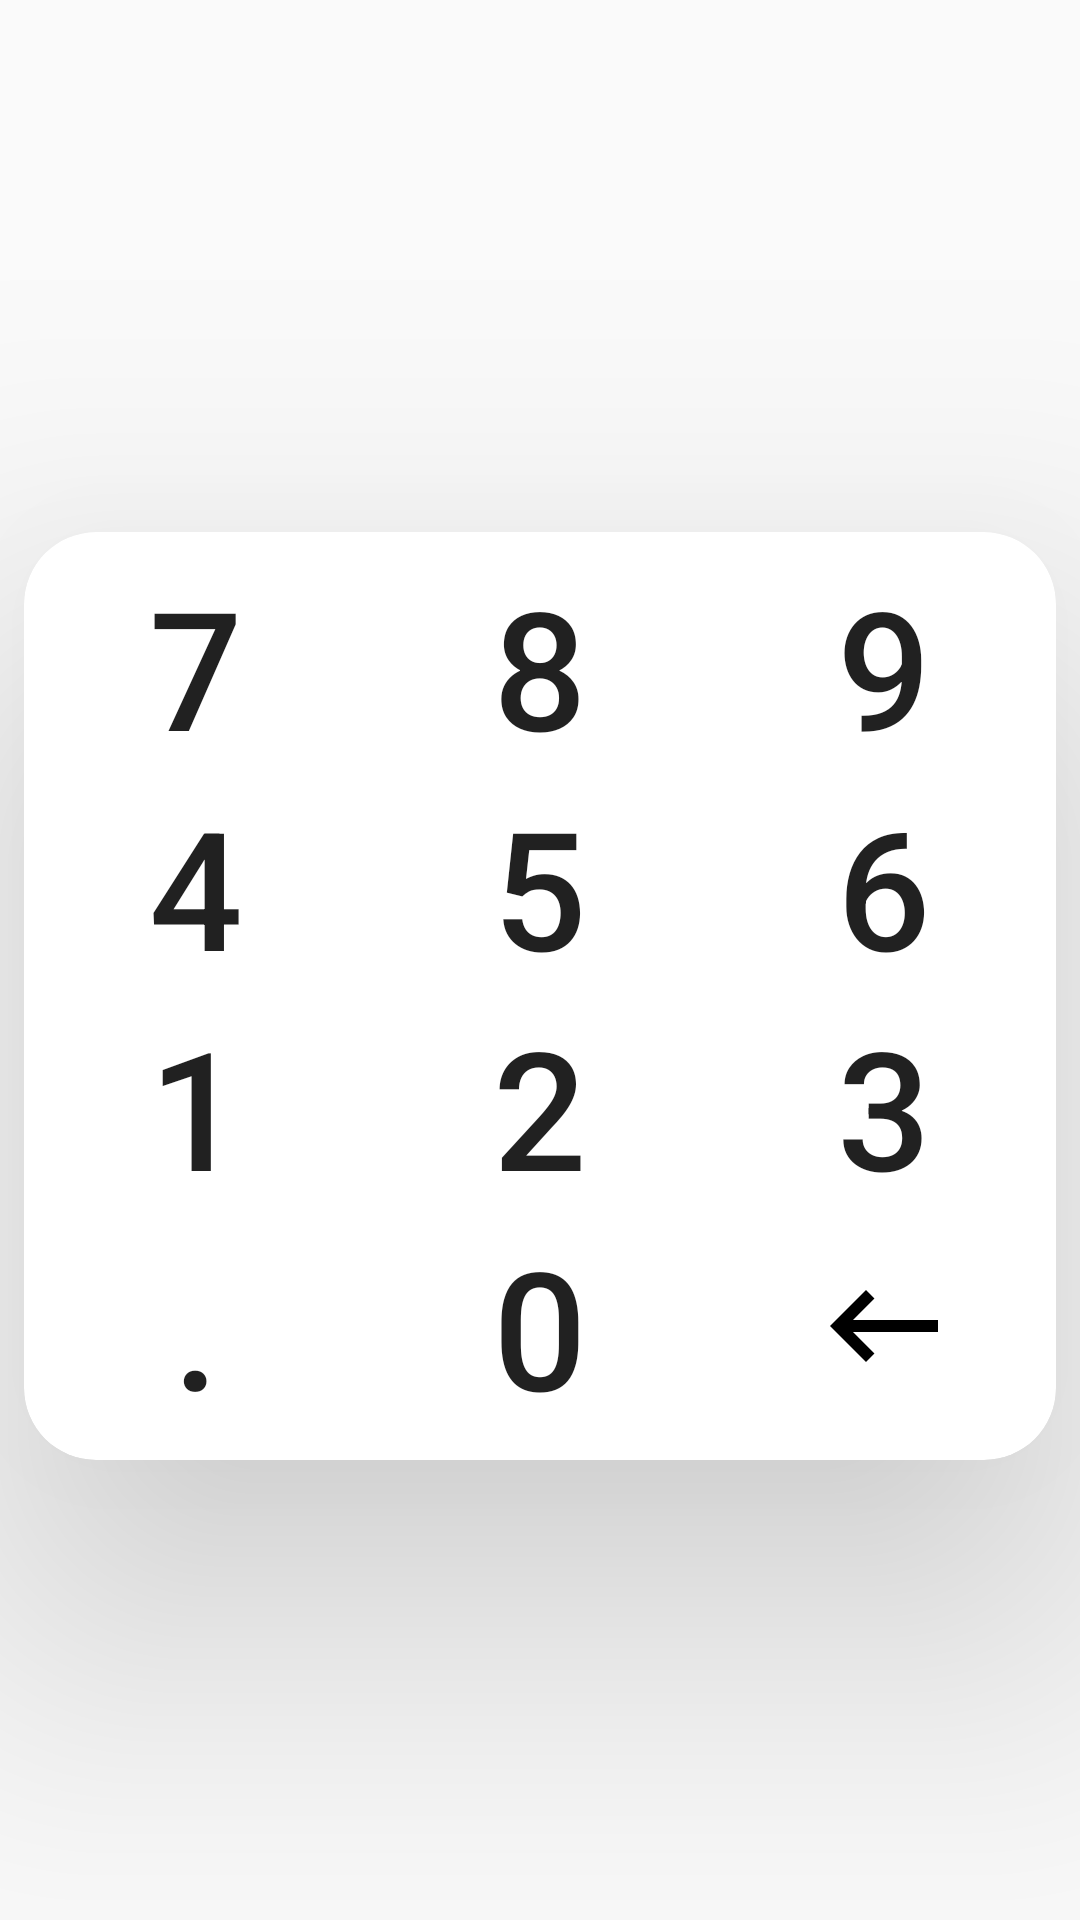

Icon click points for this 1080x1920 phone screenshot, format [x,y]:
Cancella l'ultima cifra: [884,1326]
